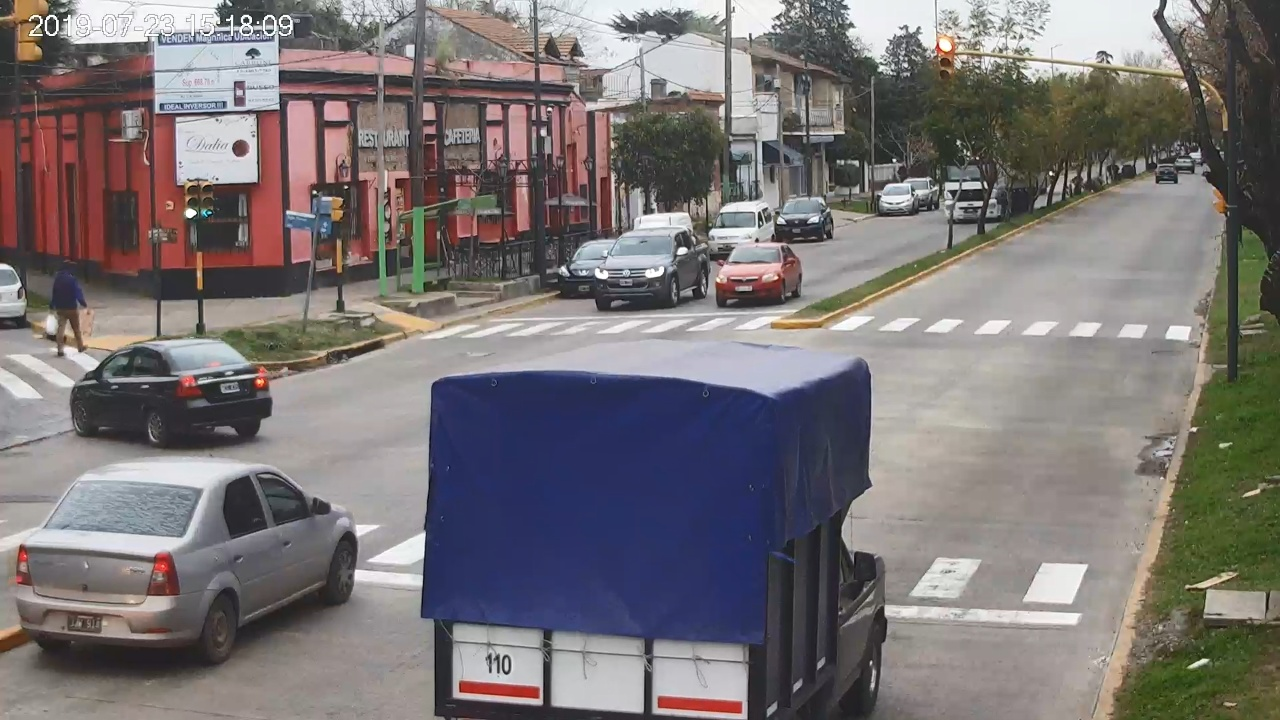car: (16, 460, 359, 663)
traffic light: (938, 37, 954, 80)
truck: (421, 338, 887, 720)
